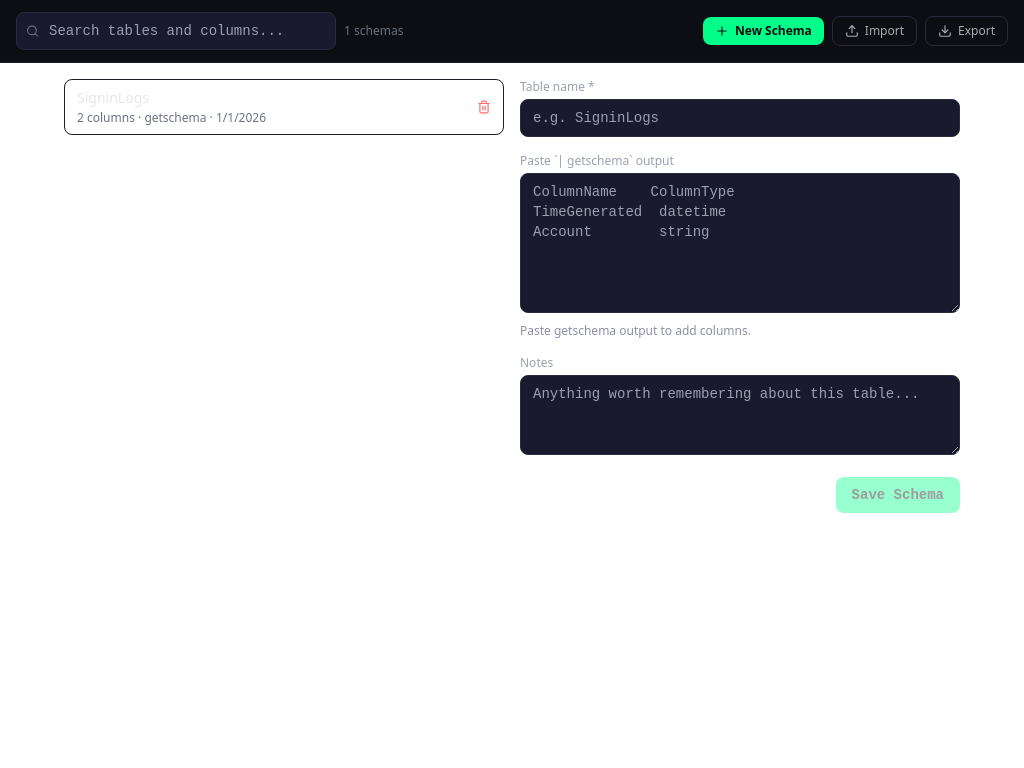
Test case: the stored columns › shows each column name and type once a schema is selected
Click the text "SigninLogs" at (113, 98), box [77,88,149,107]
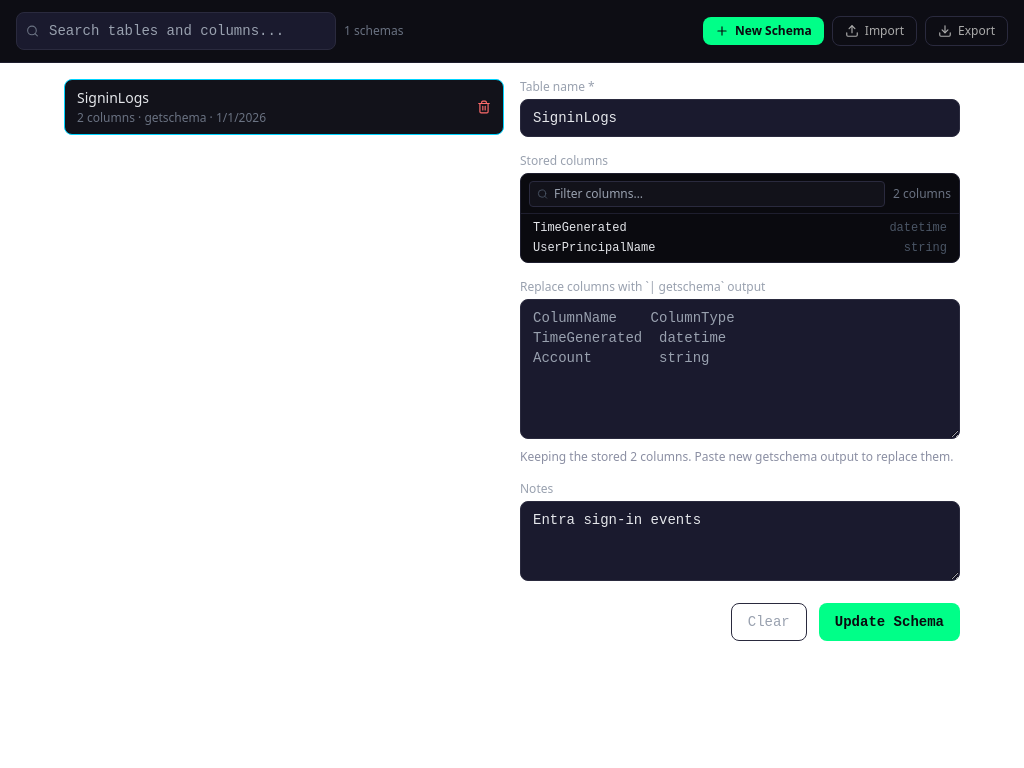
Result: the text "TimeGenerated" is shown at [533,220,627,236]
Result: the text "UserPrincipalName" is shown at [533,240,655,256]
Result: the text "string" is shown at [904,240,947,256]
